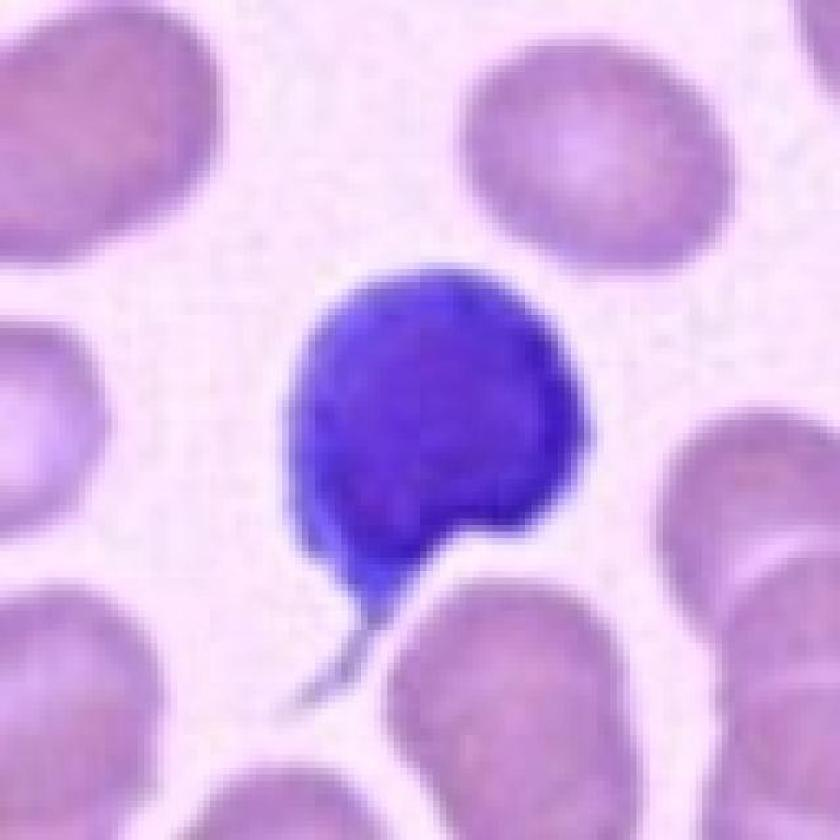lymphocyte: (272, 258, 604, 702)
